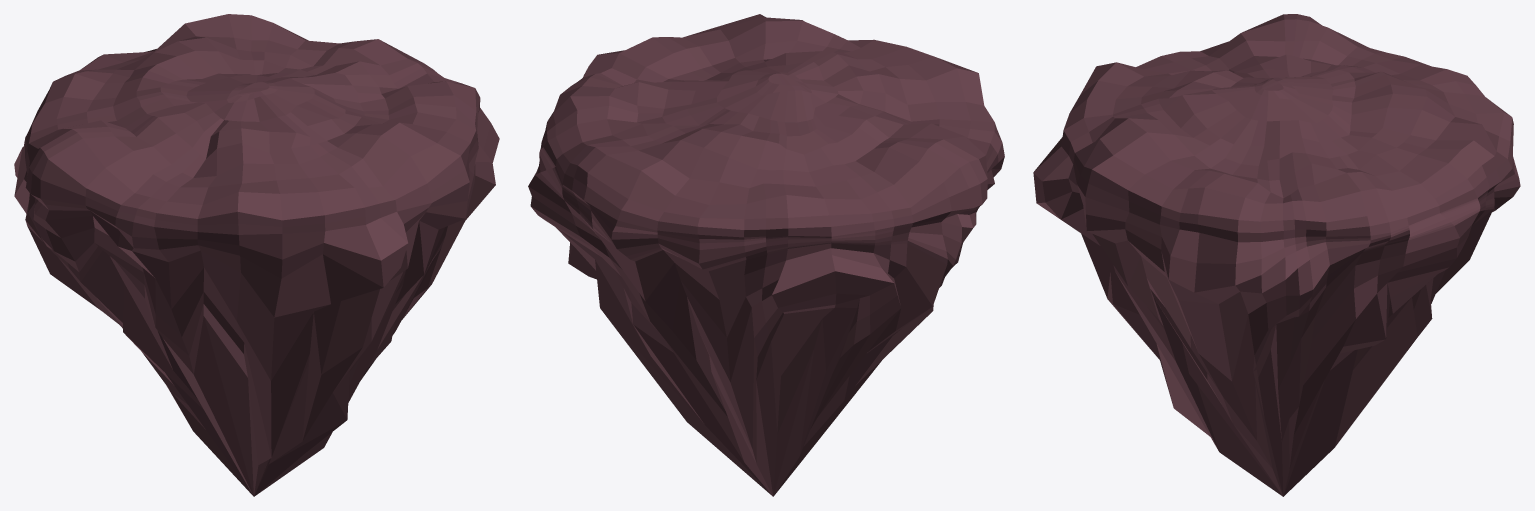
Rendered from floating-rock.glb.
The picture shows the model from 3 angles, left to right: view 1: azimuth 30°, elevation 25°; view 2: azimuth 150°, elevation 25°; view 3: azimuth 270°, elevation 25°; orthographic projection.
Parts seen in each view (by area): view 1: Cone; view 2: Cone; view 3: Cone.
Part boxes in pixels (<box>): Cone: <box>14,14,499,496</box>; Cone: <box>528,14,1004,496</box>; Cone: <box>1033,14,1520,496</box>.
Size of the model in its own units: 2.5 by 2.26 by 2.44.
